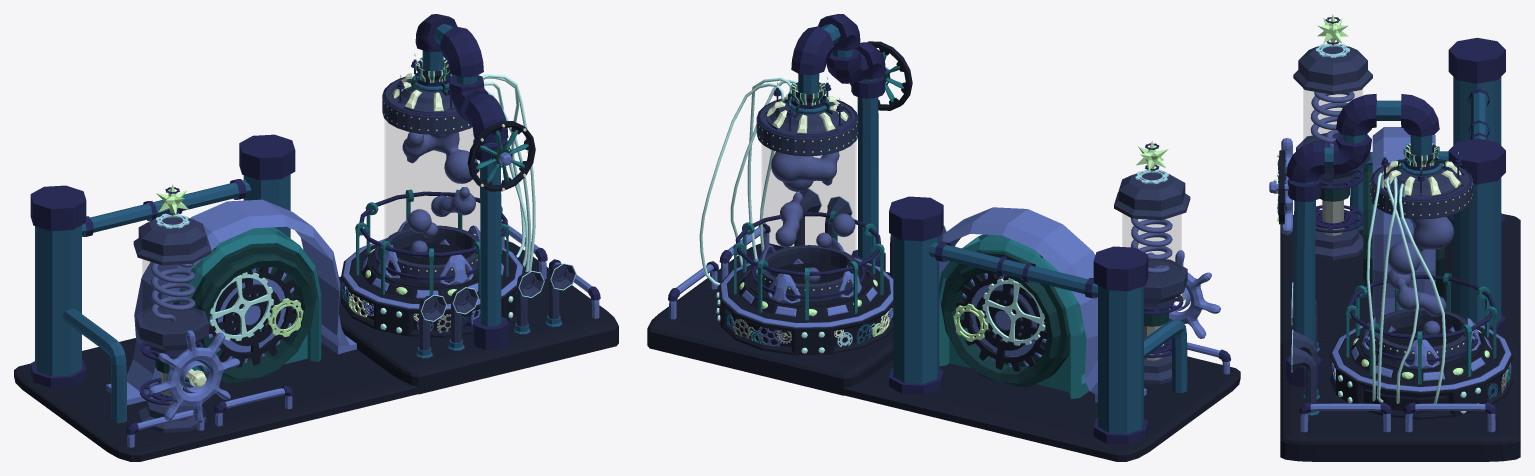
The model's file is st3_generator A.fbx.
3 renders of one model, left to right at view 1: azimuth 30°, elevation 25°; view 2: azimuth 150°, elevation 25°; view 3: azimuth 270°, elevation 25°, orthographic.
Visible parts, largest first — view 1: 2_generator_assistant_2_wheel5_1, 2_generator_assistant_2_wheel1, 2_generator_assistant_pipe4_7, 1_generator_main_body, 1_generator_main_body_bottom, 2_generator_assistant_2_wheel3, 1_generator_main_body_pipe1_2, 2_generator_assistant_pipe4_6, 1_generator_main_body_pipe1_1, 1_generator_Mball, 2_generator_assistant_2_gear3, 2_generator_assistant_pipe2_handle (+24 smaller); view 2: 2_generator_assistant_2_wheel5_1, 2_generator_assistant_pipe4_7, 1_generator_main_body_bottom, 1_generator_main_body, 2_generator_assistant_2_wheel1, 2_generator_assistant_2_wheel3, 2_generator_assistant_pipe4_6, 2_generator_assistant_2_wheel2, 1_generator_main_body_pipe1_2, 1_generator_main_body_pipe1_1, 1_generator_Mball, 2_generator_assistant_2_gear3 (+23 smaller); view 3: 2_generator_assistant_2_wheel5_1, 2_generator_assistant_pipe4_7, 1_generator_main_body_bottom, 1_generator_main_body, 1_generator_main_body_pipe1_2, 2_generator_assistant_pipe4_6, 1_generator_main_body_pipe1_1, 2_generator_assistant_2_wheel1, 1_generator_main_body_etc9, 1_generator_Mball, 1_generator_main_body_cover1, 2_generator_assistant_1_pipe2 (+30 smaller).
Boxes of the visible parts, bbox=[...] form: 2_generator_assistant_2_wheel5_1: bbox=[14, 240, 618, 461]; 2_generator_assistant_2_wheel1: bbox=[106, 199, 356, 405]; 2_generator_assistant_pipe4_7: bbox=[35, 174, 290, 376]; 1_generator_main_body: bbox=[386, 121, 479, 264]; 1_generator_main_body_bottom: bbox=[341, 243, 524, 337]; 2_generator_assistant_2_wheel3: bbox=[191, 245, 316, 383]; 1_generator_main_body_pipe1_2: bbox=[415, 14, 508, 350]; 2_generator_assistant_pipe4_6: bbox=[30, 134, 295, 387]; 1_generator_main_body_pipe1_1: bbox=[422, 24, 501, 326]; 1_generator_Mball: bbox=[402, 132, 477, 257]; 2_generator_assistant_2_gear3: bbox=[209, 267, 300, 367]; 2_generator_assistant_pipe2_handle: bbox=[148, 330, 240, 422]; 2_generator_assistant_2_wheel5_1: bbox=[647, 243, 1240, 461]; 2_generator_assistant_pipe4_7: bbox=[893, 235, 1143, 433]; 1_generator_main_body_bottom: bbox=[718, 261, 893, 355]; 1_generator_main_body: bbox=[762, 143, 854, 283]; 2_generator_assistant_2_wheel1: bbox=[939, 207, 1146, 402]; 2_generator_assistant_2_wheel3: bbox=[941, 251, 1069, 387]; 2_generator_assistant_pipe4_6: bbox=[889, 196, 1148, 444]; 2_generator_assistant_2_wheel2: bbox=[939, 234, 1089, 398]; 1_generator_main_body_pipe1_2: bbox=[791, 14, 885, 271]; 1_generator_main_body_pipe1_1: bbox=[798, 24, 878, 258]; 1_generator_Mball: bbox=[771, 151, 855, 283]; 2_generator_assistant_2_gear3: bbox=[956, 273, 1047, 371]; 2_generator_assistant_2_wheel5_1: bbox=[1280, 214, 1520, 461]; 2_generator_assistant_pipe4_7: bbox=[1453, 77, 1501, 326]; 1_generator_main_body_bottom: bbox=[1330, 325, 1513, 419]; 1_generator_main_body: bbox=[1375, 207, 1468, 346]; 1_generator_main_body_pipe1_2: bbox=[1286, 94, 1439, 387]; 2_generator_assistant_pipe4_6: bbox=[1448, 37, 1505, 334]; 1_generator_main_body_pipe1_1: bbox=[1293, 100, 1432, 345]; 2_generator_assistant_2_wheel1: bbox=[1372, 127, 1435, 320]; 1_generator_main_body_etc9: bbox=[1366, 172, 1446, 403]; 1_generator_Mball: bbox=[1387, 216, 1453, 335]; 1_generator_main_body_cover1: bbox=[1370, 163, 1472, 219]; 2_generator_assistant_1_pipe2: bbox=[1293, 46, 1372, 94].
Bounding box in the file's own units: 2953 × 1791 × 1299.
